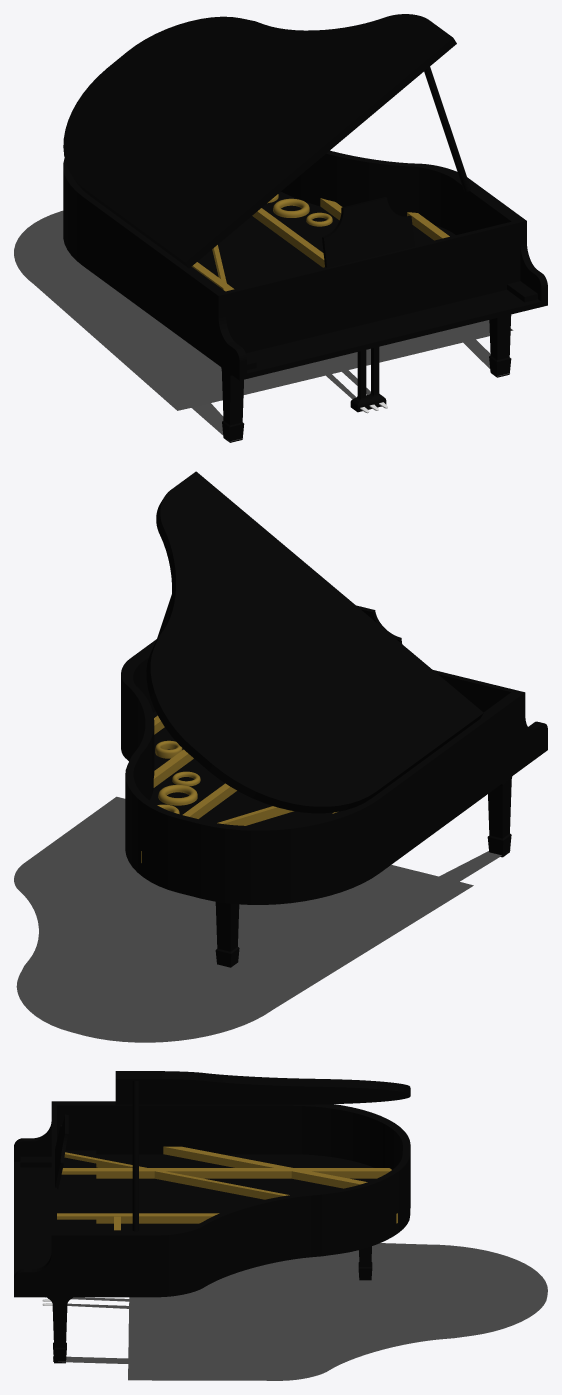
File: Piano.glb
3 renders of one model, top to bottom at view 1: azimuth 30°, elevation 25°; view 2: azimuth 150°, elevation 25°; view 3: azimuth 270°, elevation 25°, orthographic. The views are drawn at different scales.
Parts seen in each view (by area): view 1: Cube, Cube.001, Cube.014, Cube.003, Cube.005, Cube.007, Cube.004, Cube.020, Cube.002, Torus.002, Cube.011; view 2: Cube.001, Cube.014, Cube, Cube.005, Cube.006, Cube.020; view 3: Cube, Cube.014, Cube.001, Cube.021, Cube.025, Cube.027, Cube.026, Cube.020, Cube.002, Cube.004, Cube.003, Cube.006 (+1 smaller).
Part boxes in pixels (x1=…): Cube: x1=63, y1=150, x2=547, y2=380; Cube.001: x1=63, y1=14, x2=456, y2=267; Cube.014: x1=14, y1=210, x2=513, y2=441; Cube.003: x1=322, y1=197, x2=414, y2=267; Cube.005: x1=221, y1=367, x2=244, y2=442; Cube.007: x1=350, y1=347, x2=386, y2=412; Cube.004: x1=489, y1=314, x2=511, y2=377; Cube.020: x1=252, y1=208, x2=324, y2=267; Cube.002: x1=424, y1=67, x2=470, y2=191; Torus.002: x1=273, y1=198, x2=309, y2=217; Cube.011: x1=246, y1=281, x2=537, y2=369; Cube.001: x1=146, y1=471, x2=483, y2=813; Cube.014: x1=14, y1=796, x2=510, y2=1042; Cube: x1=121, y1=639, x2=547, y2=904; Cube.005: x1=487, y1=776, x2=512, y2=857; Cube.006: x1=215, y1=901, x2=239, y2=967; Cube.020: x1=141, y1=783, x2=236, y2=862; Cube: x1=14, y1=1101, x2=410, y2=1297; Cube.014: x1=53, y1=1243, x2=547, y2=1380; Cube.001: x1=115, y1=1071, x2=410, y2=1104; Cube.021: x1=61, y1=1168, x2=391, y2=1178; Cube.025: x1=57, y1=1150, x2=96, y2=1230; Cube.027: x1=163, y1=1146, x2=367, y2=1188; Cube.026: x1=64, y1=1152, x2=289, y2=1199; Cube.020: x1=57, y1=1213, x2=397, y2=1223; Cube.002: x1=132, y1=1081, x2=138, y2=1231; Cube.004: x1=47, y1=1297, x2=72, y2=1363; Cube.003: x1=55, y1=1114, x2=68, y2=1189; Cube.006: x1=358, y1=1246, x2=372, y2=1280.
Size of what is drawn, in the model's own units: 5.94 by 5.31 by 9.09.
